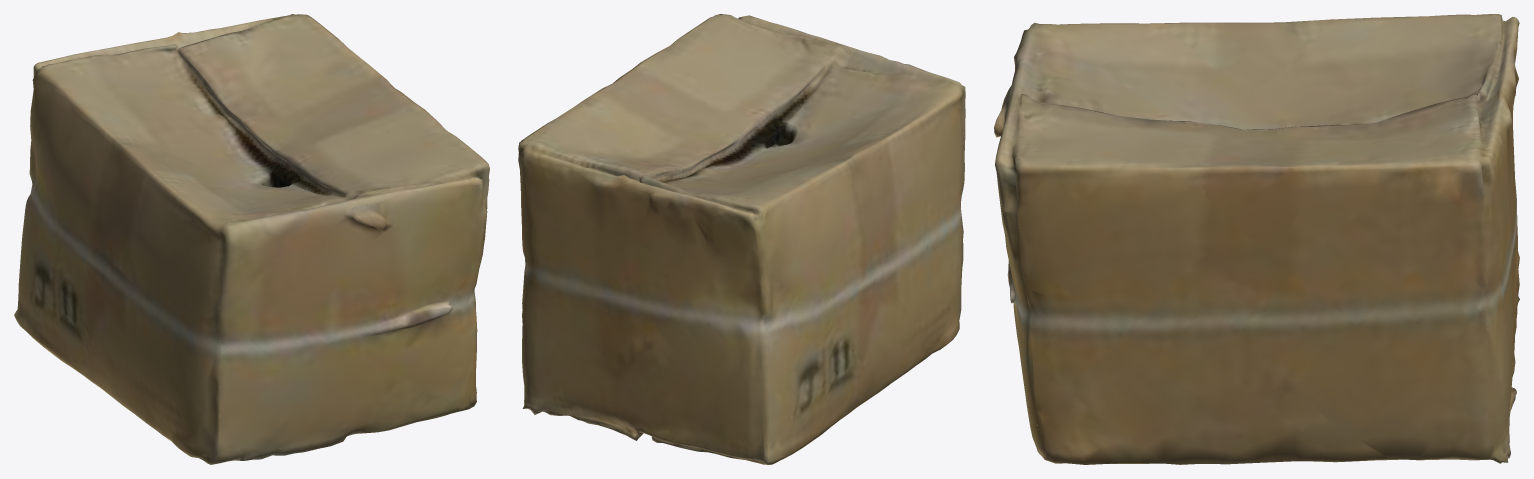
The model's file is cardboard_box_01.glb.
3 views of the same model, side by side, from view 1: azimuth 30°, elevation 25°; view 2: azimuth 150°, elevation 25°; view 3: azimuth 270°, elevation 25° (orthographic). The views are drawn at different scales.
Visible parts, largest first — view 1: cardboard_box_01; view 2: cardboard_box_01; view 3: cardboard_box_01.
Part boxes in pixels (x1,y1,x2,y2): cardboard_box_01: (14,14,489,464); cardboard_box_01: (518,14,965,464); cardboard_box_01: (994,14,1519,464).
Size of the model in its own units: 0.3872 by 0.3415 by 0.5159.
Materials: 1 (1 with a texture image).
